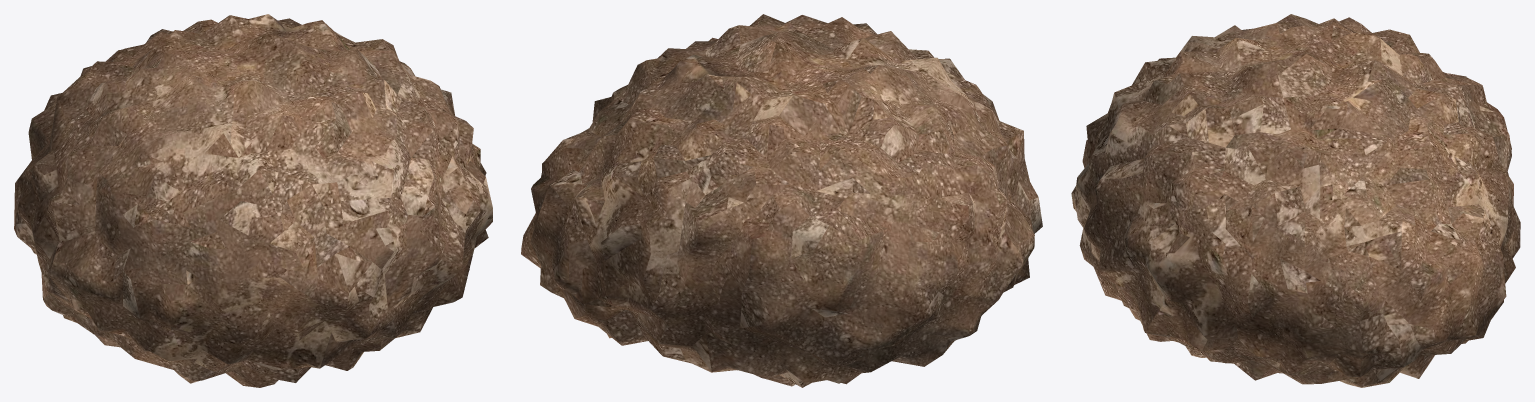
The model's file is coral_brain.glb.
3 views of the same model, side by side, from view 1: azimuth 30°, elevation 25°; view 2: azimuth 150°, elevation 25°; view 3: azimuth 270°, elevation 25° (orthographic). The views are drawn at different scales.
Visible parts, largest first — view 1: coral_brain; view 2: coral_brain; view 3: coral_brain.
Boxes of the visible parts, x1,y1,x2,y2 form: coral_brain: (14,14,492,387); coral_brain: (521,14,1042,387); coral_brain: (1071,14,1520,387).
Size of the model in its own units: 2.48 by 1.72 by 2.25.
Materials: 1 (1 with a texture image).
